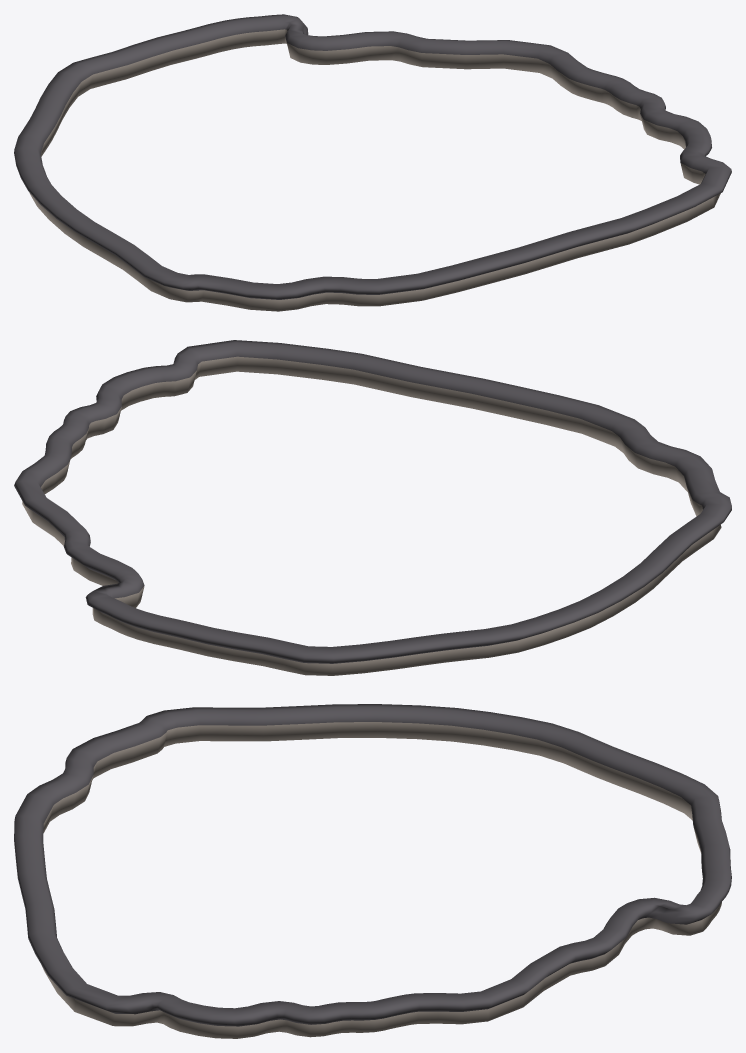
The model's file is SM_SkyIsland_TussockBase.fbx.
3 renders of one model, top to bottom at view 1: azimuth 30°, elevation 25°; view 2: azimuth 150°, elevation 25°; view 3: azimuth 270°, elevation 25°, orthographic. The views are drawn at different scales.
Visible parts, largest first — view 1: Tussock_Base; view 2: Tussock_Base; view 3: Tussock_Base.
Part boxes in pixels (box(x1,y1,x2,y2)): Tussock_Base: box(14, 14, 731, 311); Tussock_Base: box(14, 340, 731, 675); Tussock_Base: box(14, 704, 731, 1038).
Size of the model in its own units: 817 by 29.24 by 785.
